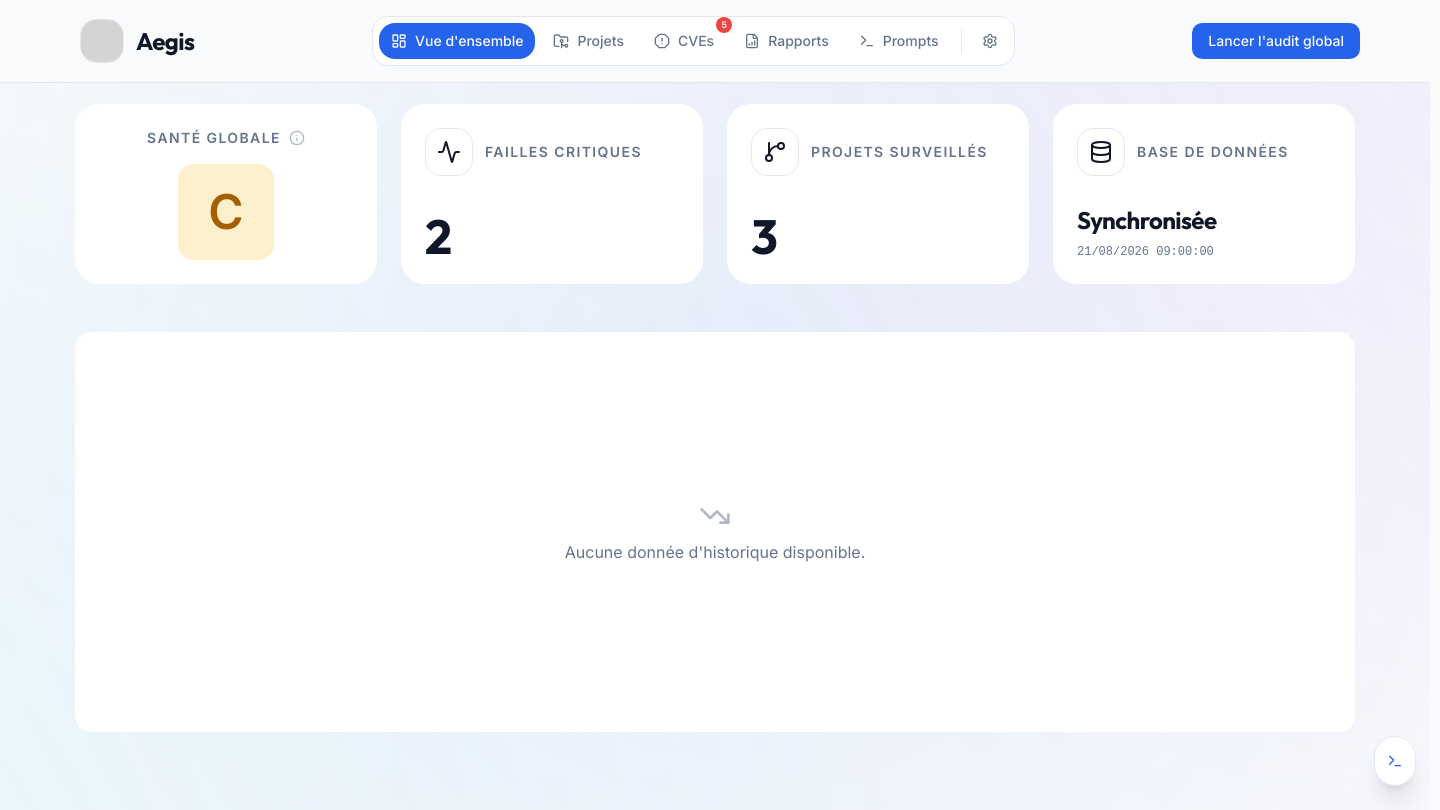
Test: App › deux projets de même nom en échec sont tous deux listés
Step 1. Click the button "Lancer l'audit global" → point(1276, 41), box [1192,23,1360,59]
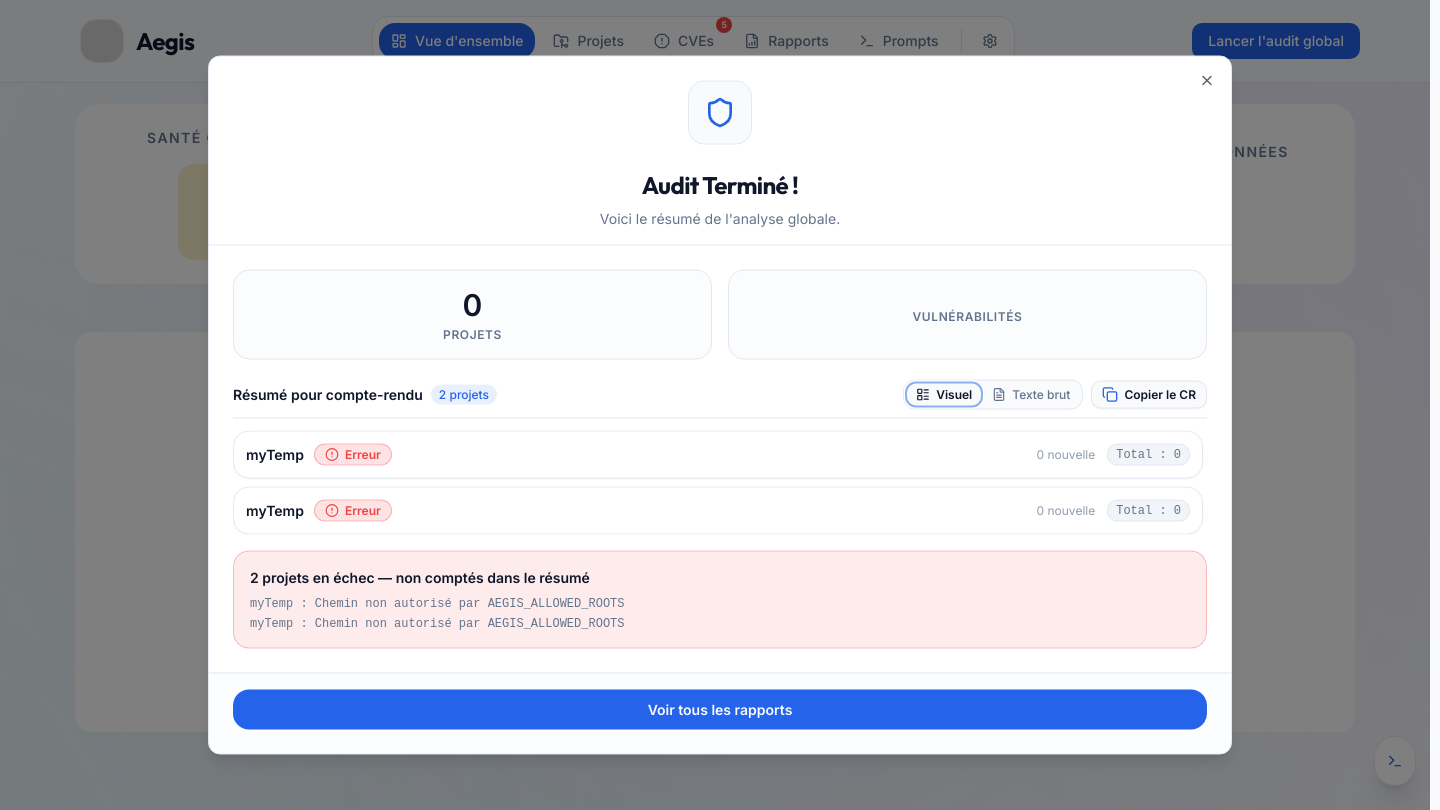
Expected: the text "2 projets en échec — non comptés dans le résumé" is shown, [250,568,590,586]
Expected: the number of list items "myTemp : Chemin non autorisé par AEGIS_ALLOWED_ROOTS" is 2, [250,596,624,610]; [250,616,624,630]
